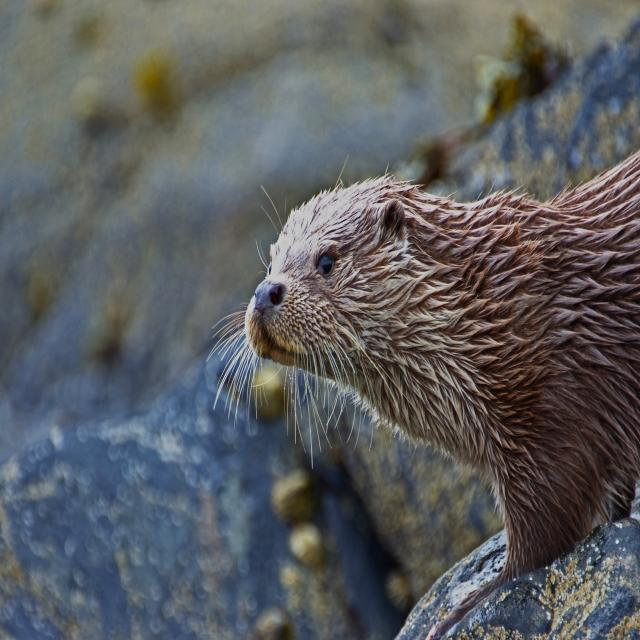otter: (245, 150, 640, 566)
